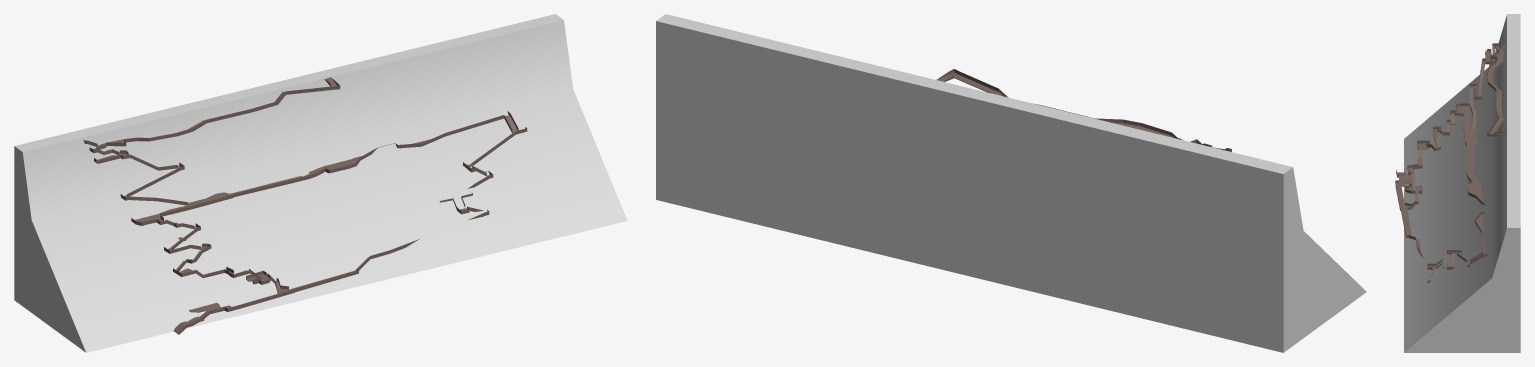
File: mountain.FBX
The picture shows the model from 3 angles, left to right: view 1: azimuth 30°, elevation 25°; view 2: azimuth 150°, elevation 25°; view 3: azimuth 270°, elevation 25°; orthographic projection. The views are drawn at different scales.
Visible parts, largest first — view 1: Box001, Plane002; view 2: Box001, Plane002; view 3: Box001, Plane002.
Part boxes in pixels (x1,y1,x2,y2): Box001: (14, 14, 627, 352); Plane002: (83, 77, 527, 334); Box001: (656, 14, 1366, 352); Plane002: (936, 69, 1231, 151); Box001: (1404, 14, 1520, 352); Plane002: (1395, 40, 1506, 283).
Bounding box in the file's own units: 50 × 13.72 × 12.37.
